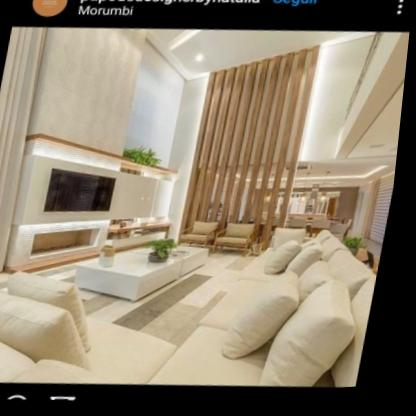Sofa: (149, 233, 383, 395)
Wall Panel: (185, 52, 321, 257)
